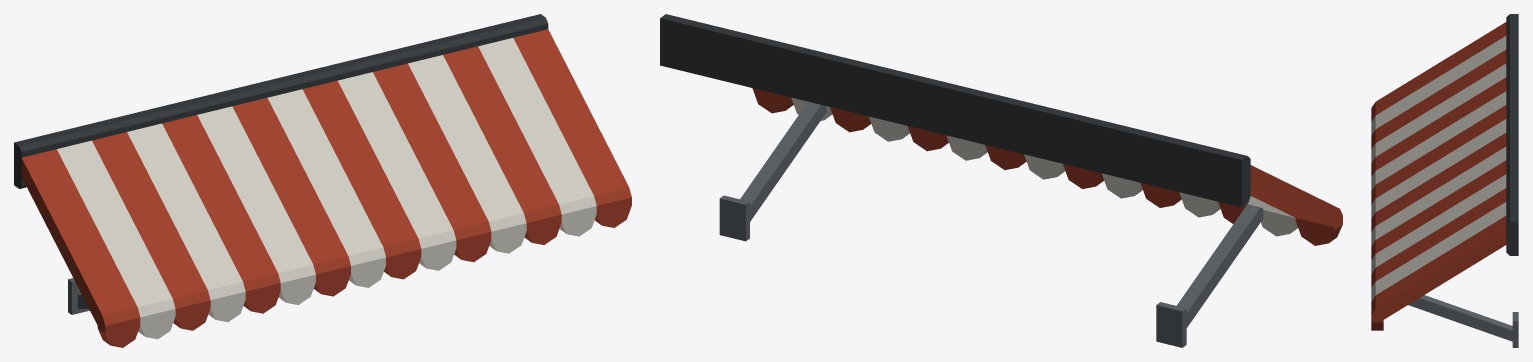
The model's file is awning.glb.
3 renders of one model, left to right at view 1: azimuth 30°, elevation 25°; view 2: azimuth 150°, elevation 25°; view 3: azimuth 270°, elevation 25°, orthographic. The views are drawn at different scales.
Visible parts, largest first — view 1: awning-body; view 2: awning-body; view 3: awning-body.
Boxes of the visible parts, box(x1,y1,x2,y2) form: awning-body: box(14, 14, 631, 347); awning-body: box(660, 14, 1342, 347); awning-body: box(1371, 14, 1518, 347).
Bounding box in the file's own units: 4 × 1.33 × 1.2.
